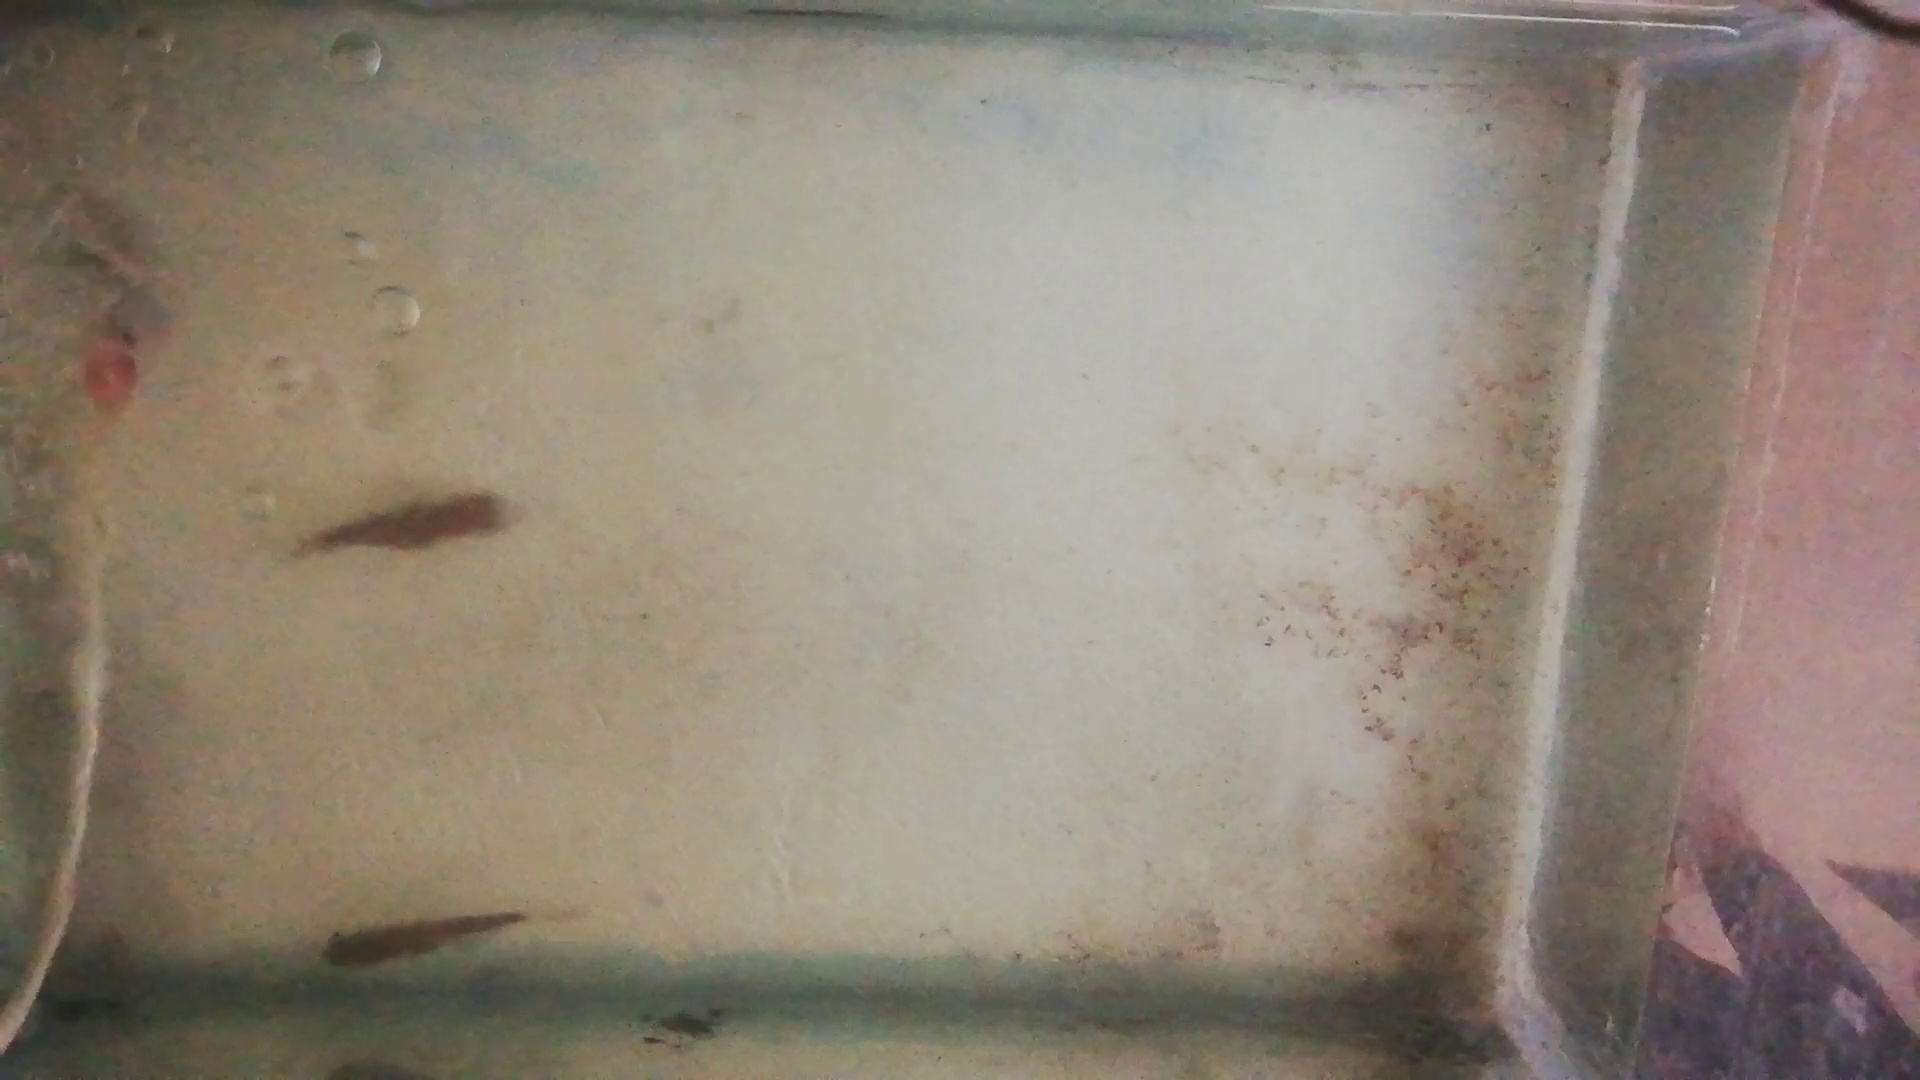fish: (297, 491, 520, 563), (320, 913, 531, 971)
